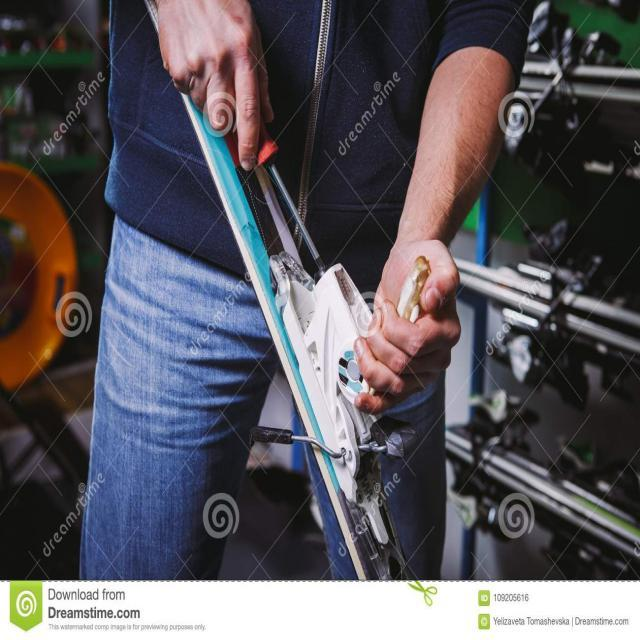screwdriver: (246, 116, 328, 280)
